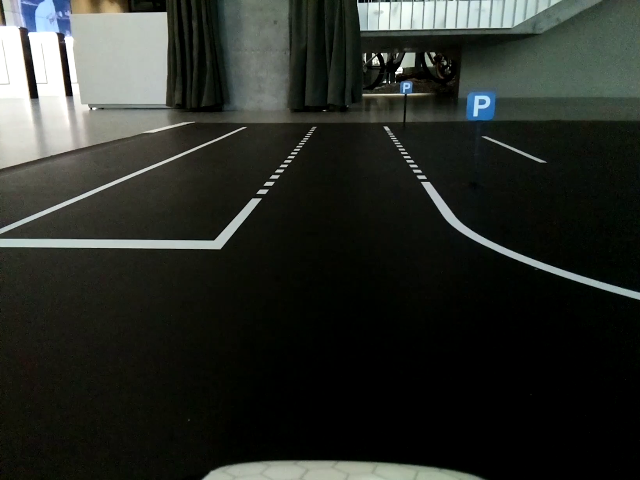park: (465, 90, 495, 120), (399, 81, 412, 94)
